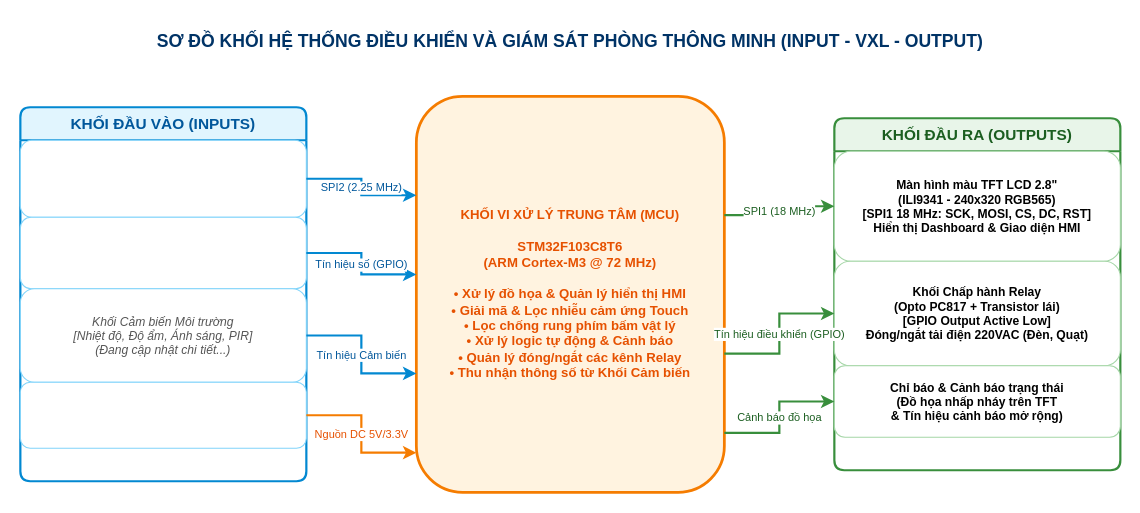
Image size: 1140x513. Some labels were removed from this diagram. The shapes that lost their labels are listed below. From the top down, each one's centre as x and y in pixels, then its label:
At [162,178]: "Màn hình Cảm ứng (Touch Screen XPT2046) [SPI2: SCK, MOSI, MISO, CS]".
At [162,252]: "Hệ thống Nút bấm vật lý (Tactile Buttons) [GPIO In + Debounce]".
At [162,414]: "Nguồn cấp hệ thống (DC 5V / 2A qua Adapter / USB)".
